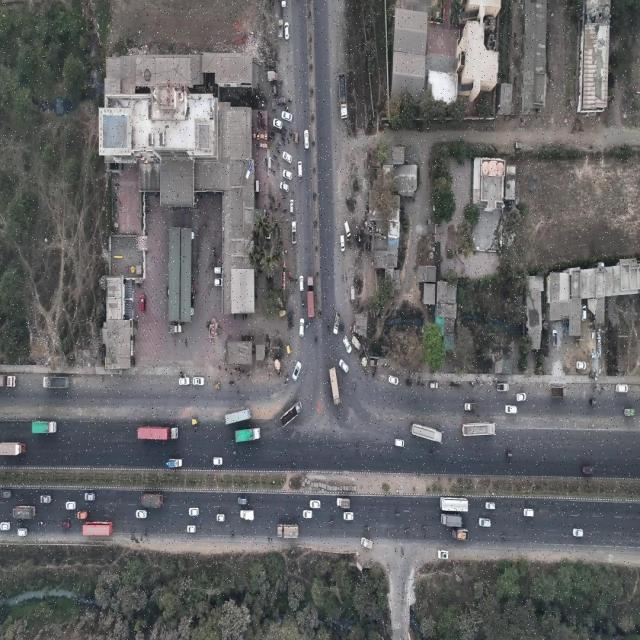3W: (288, 318, 294, 331), (286, 309, 294, 318), (589, 399, 597, 406), (279, 309, 286, 317), (287, 342, 291, 356), (192, 418, 199, 426), (505, 451, 512, 458), (406, 380, 413, 386), (341, 322, 344, 335)
Bus: (409, 421, 444, 446), (224, 406, 253, 426), (329, 367, 342, 408), (440, 496, 469, 513), (462, 423, 497, 437), (82, 522, 114, 536)
Cars: (292, 359, 302, 382), (179, 374, 191, 387), (505, 403, 518, 415), (478, 517, 491, 529), (281, 109, 293, 122), (343, 335, 351, 354), (282, 151, 293, 164), (282, 169, 293, 182), (273, 117, 283, 131), (303, 129, 310, 149), (339, 358, 348, 373), (576, 359, 587, 371), (615, 383, 628, 393), (140, 295, 147, 313), (1, 488, 12, 499), (136, 509, 147, 520), (438, 549, 449, 560), (310, 500, 322, 510), (389, 374, 399, 386), (299, 317, 305, 337), (192, 376, 205, 385), (289, 197, 295, 216), (345, 219, 351, 238), (186, 524, 197, 534), (238, 495, 249, 505), (343, 511, 354, 521), (583, 465, 594, 475), (279, 182, 290, 192), (303, 508, 312, 520), (395, 437, 404, 449), (284, 22, 290, 40), (297, 161, 303, 178), (0, 521, 10, 531), (85, 492, 95, 502), (213, 456, 223, 466), (485, 501, 495, 511), (573, 528, 583, 538), (517, 392, 527, 402), (76, 511, 88, 519), (66, 502, 76, 511), (189, 507, 199, 516), (217, 513, 226, 523), (61, 520, 71, 529), (524, 509, 534, 518), (581, 304, 586, 322), (299, 274, 304, 292), (552, 330, 557, 347), (340, 235, 345, 252), (40, 496, 52, 503), (214, 266, 223, 275), (17, 528, 27, 536), (276, 98, 287, 105), (214, 278, 223, 286), (430, 382, 439, 389)
LCV: (166, 323, 182, 335), (337, 497, 351, 510), (240, 510, 255, 522), (360, 538, 374, 550), (334, 310, 340, 337), (291, 221, 297, 244), (168, 459, 183, 468), (624, 408, 636, 417), (465, 403, 478, 411), (278, 19, 283, 39), (497, 385, 510, 392)
M2W: (352, 382, 358, 390), (301, 298, 305, 309), (314, 335, 318, 346), (501, 532, 506, 540), (143, 530, 149, 536), (230, 531, 236, 537), (394, 512, 400, 518), (421, 526, 427, 532), (232, 450, 238, 456), (306, 320, 309, 332), (37, 521, 44, 526), (364, 526, 371, 531), (404, 528, 409, 535), (327, 323, 331, 331), (318, 310, 322, 318), (17, 521, 23, 526), (355, 445, 361, 450), (429, 451, 434, 457), (291, 461, 297, 466), (329, 520, 334, 525), (267, 538, 273, 542)
MAV: (137, 426, 179, 440)
Truck: (280, 399, 302, 429), (337, 72, 349, 122), (235, 427, 262, 443), (307, 275, 316, 321), (0, 442, 26, 456), (43, 376, 70, 389), (32, 420, 57, 434), (440, 513, 463, 528), (13, 505, 36, 519), (141, 494, 164, 508), (278, 524, 299, 539), (452, 528, 470, 542), (551, 386, 568, 399)
